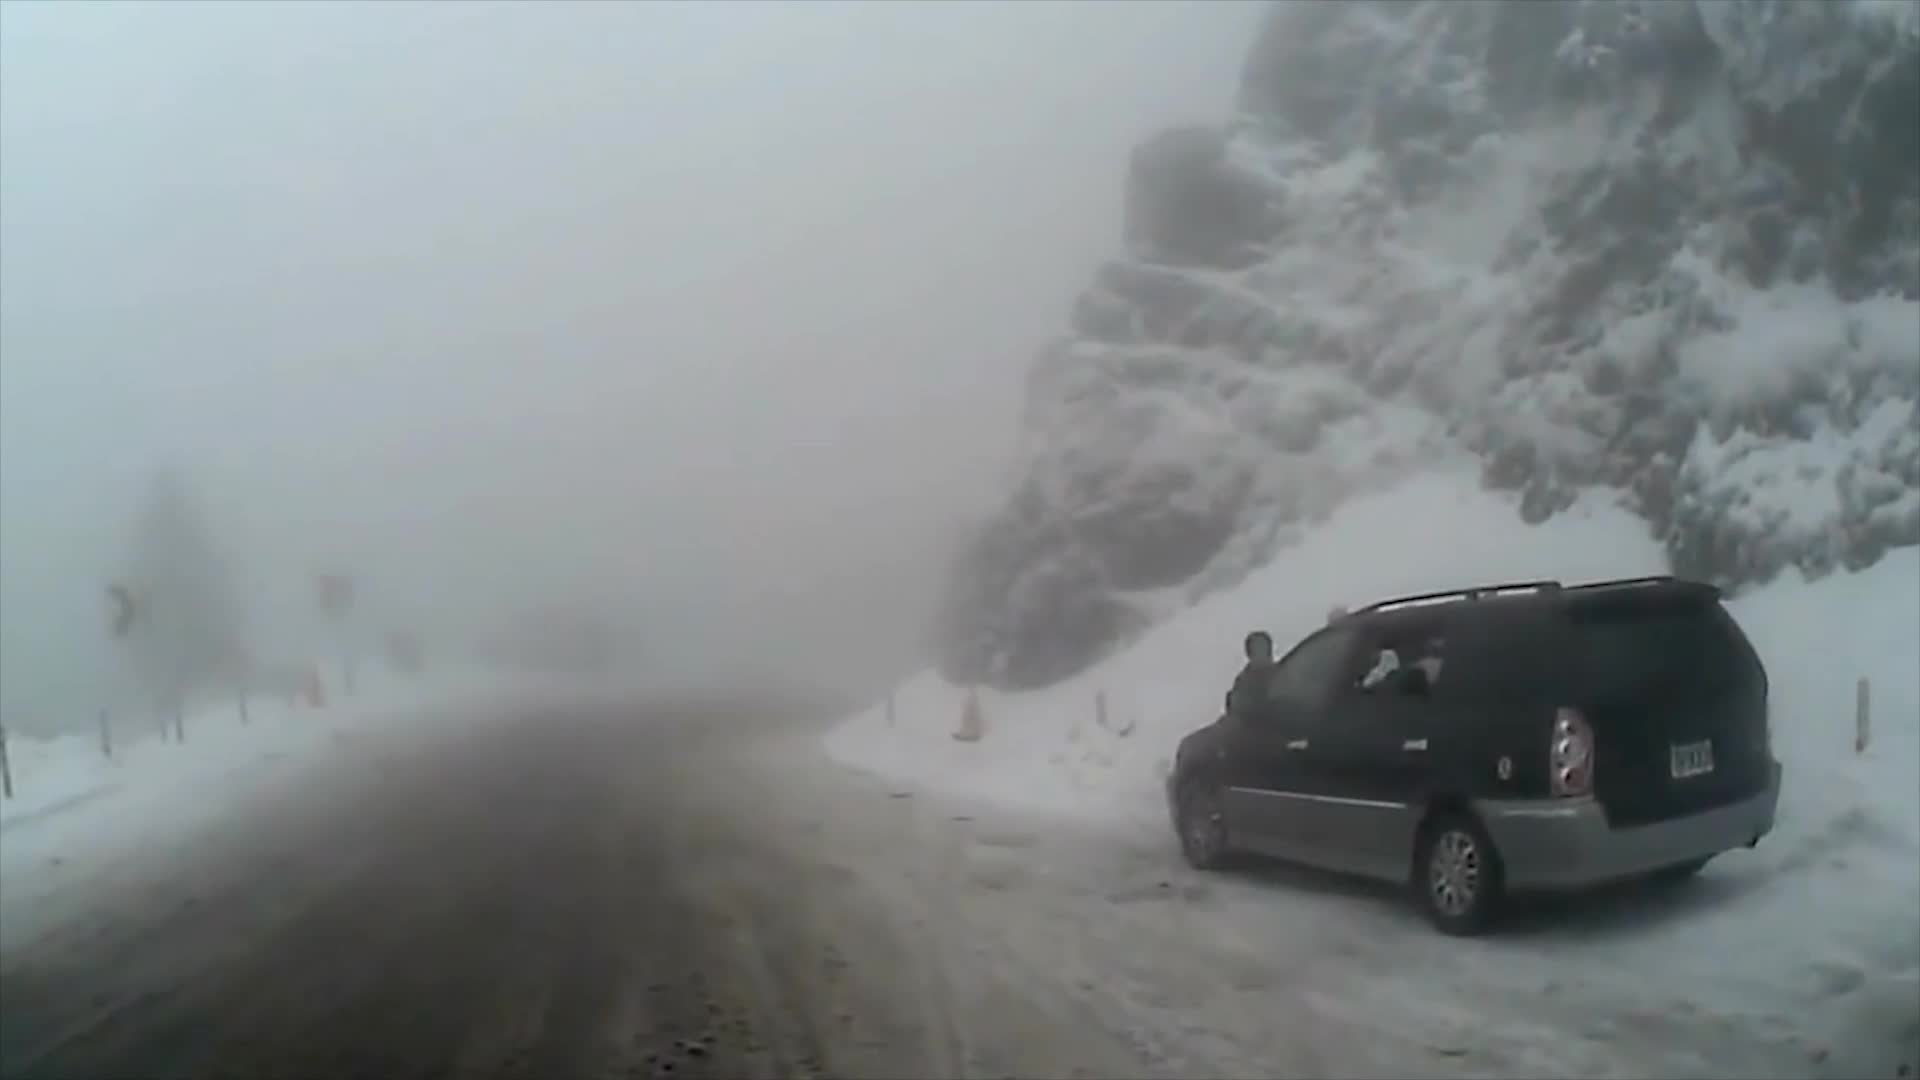pedestrian: (1229, 629, 1290, 825)
vehicle: (1160, 571, 1768, 935)
